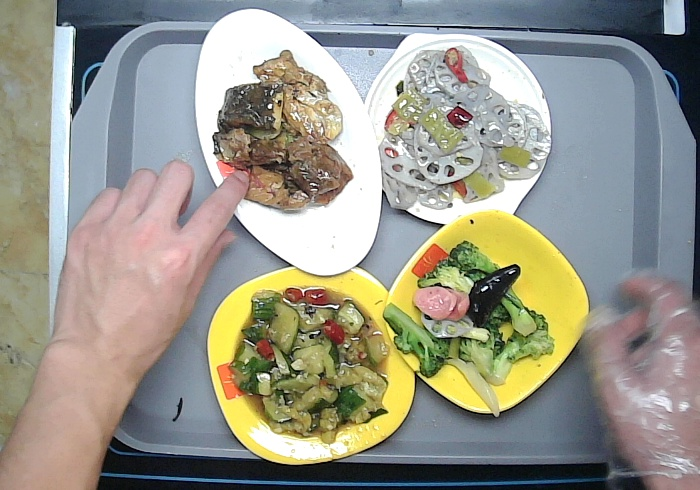SHKJ-Bao_Yu_Pan: (363, 31, 553, 231)
SHKJ-Huang_Se_Cai_Die: (386, 210, 592, 418)
SHKJ-Huang_Se_Si_Fang_Cai_Die: (207, 264, 417, 467)
SHKJ-Yu_Pan: (194, 9, 385, 276)
